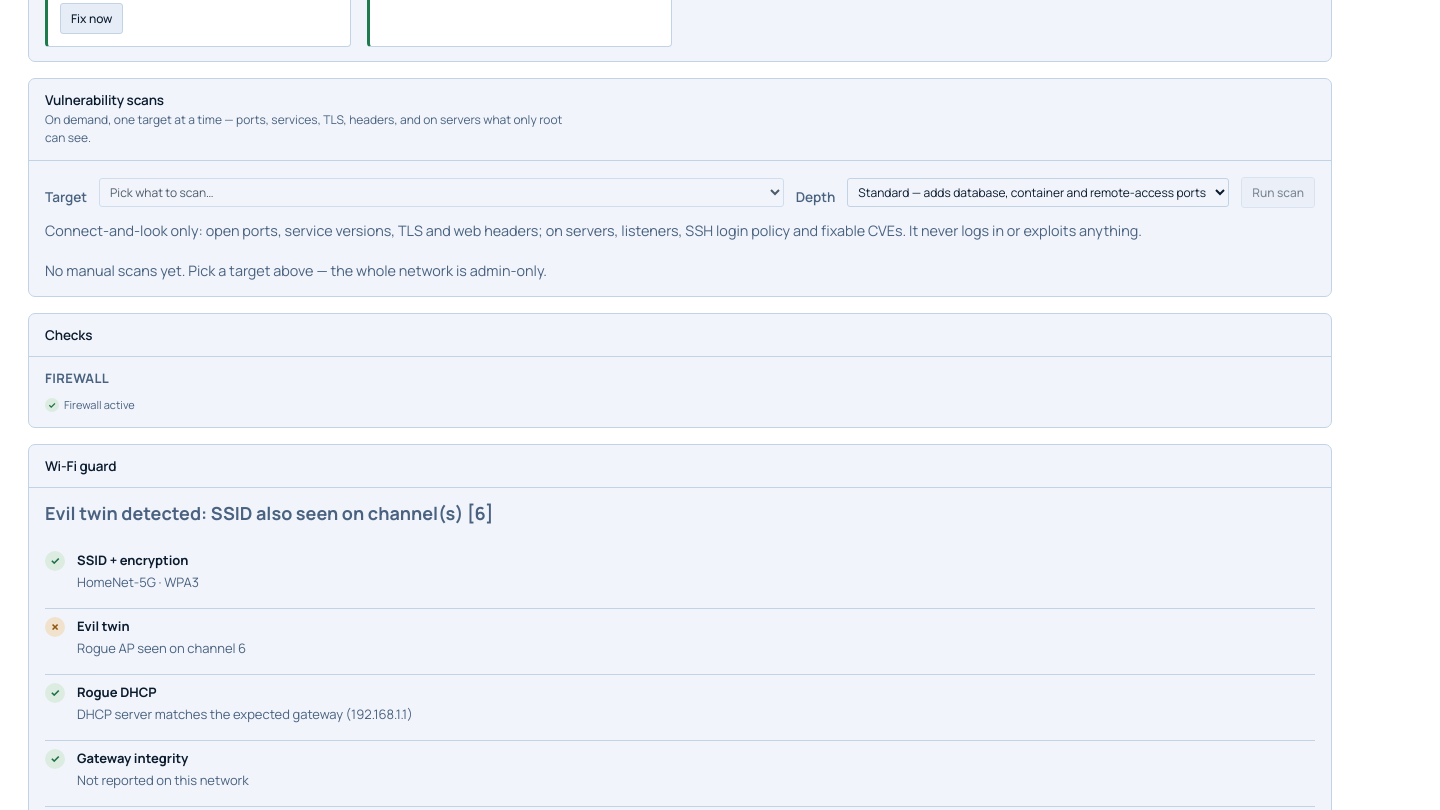
a PASSING check opens too — the proof matters most once it is green
(page scrolled)
What coordinates should you click on to do the following:
click the button "✓ Firewall active"
I would click on:
 (90, 405)
Its box is [45,397,135,413].
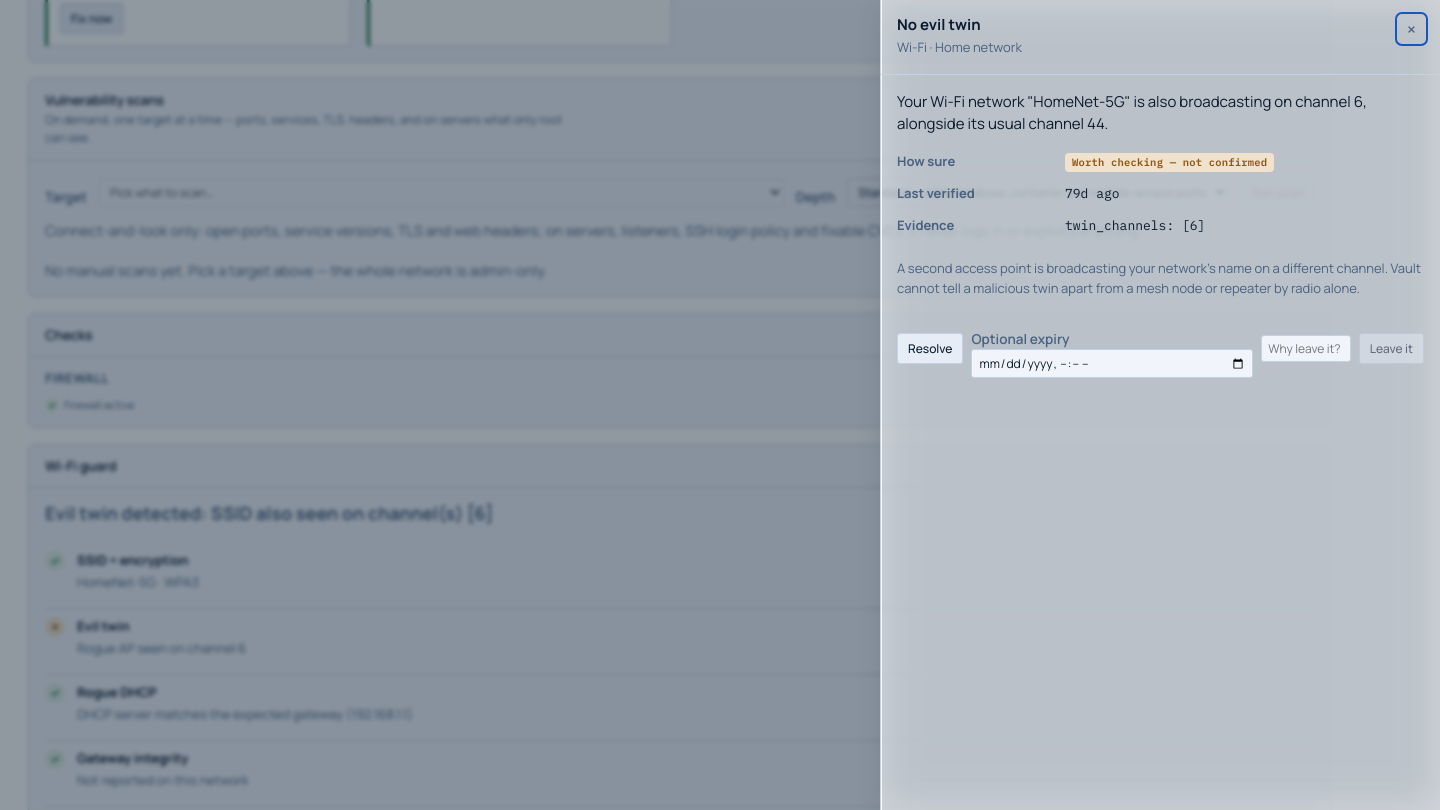
Check: the dialog is shown, box [880,0,1439,809]
